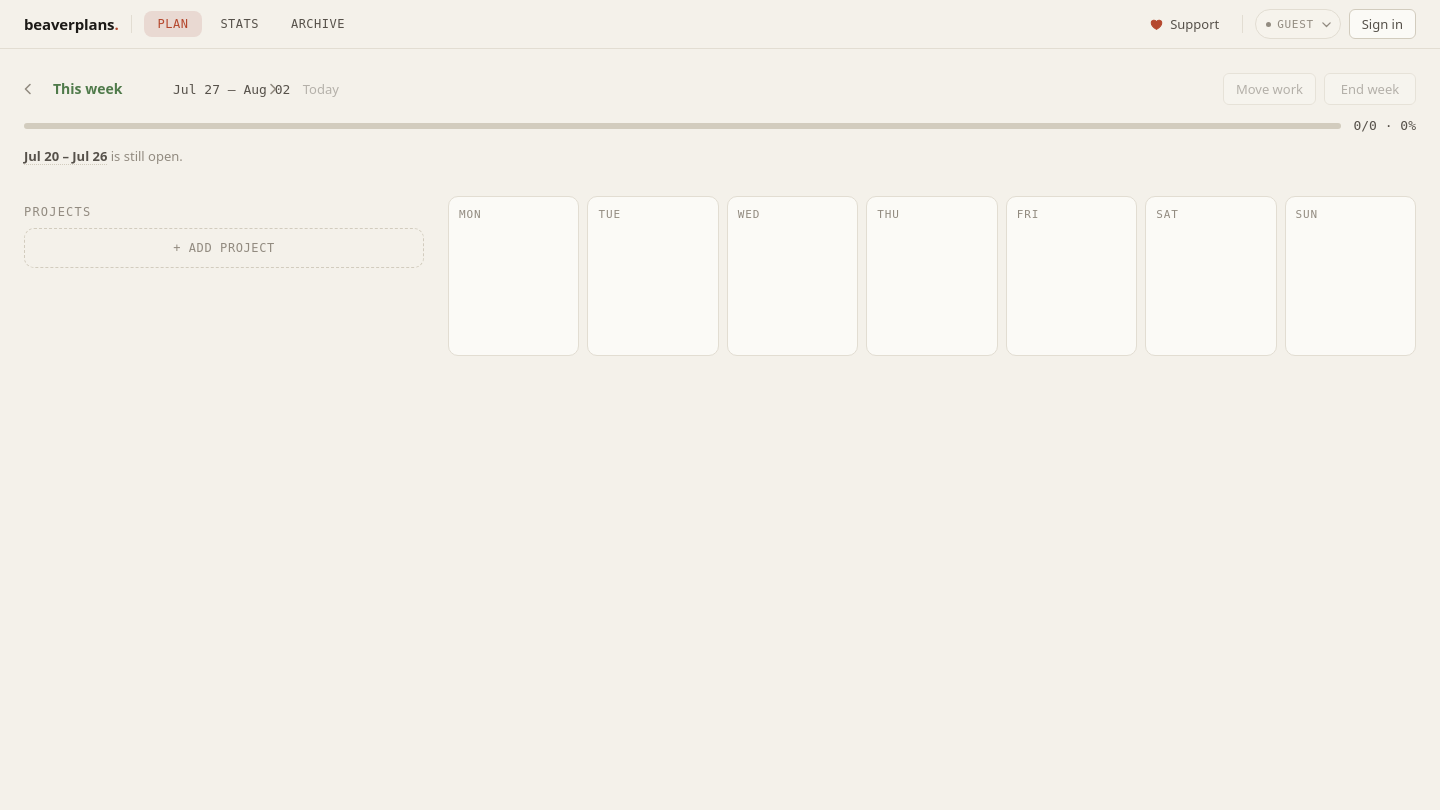
Scenario: App under the weeks model › moving a week relabels the work and takes the view with it
This screenshot has width=1440, height=810.
Check: the button with aria-label "Go to Jul 20" is shown, box 24,147 -> 107,167
Click the button named "Previous week" at {"x": 28, "y": 89}, box 15,76 -> 41,102
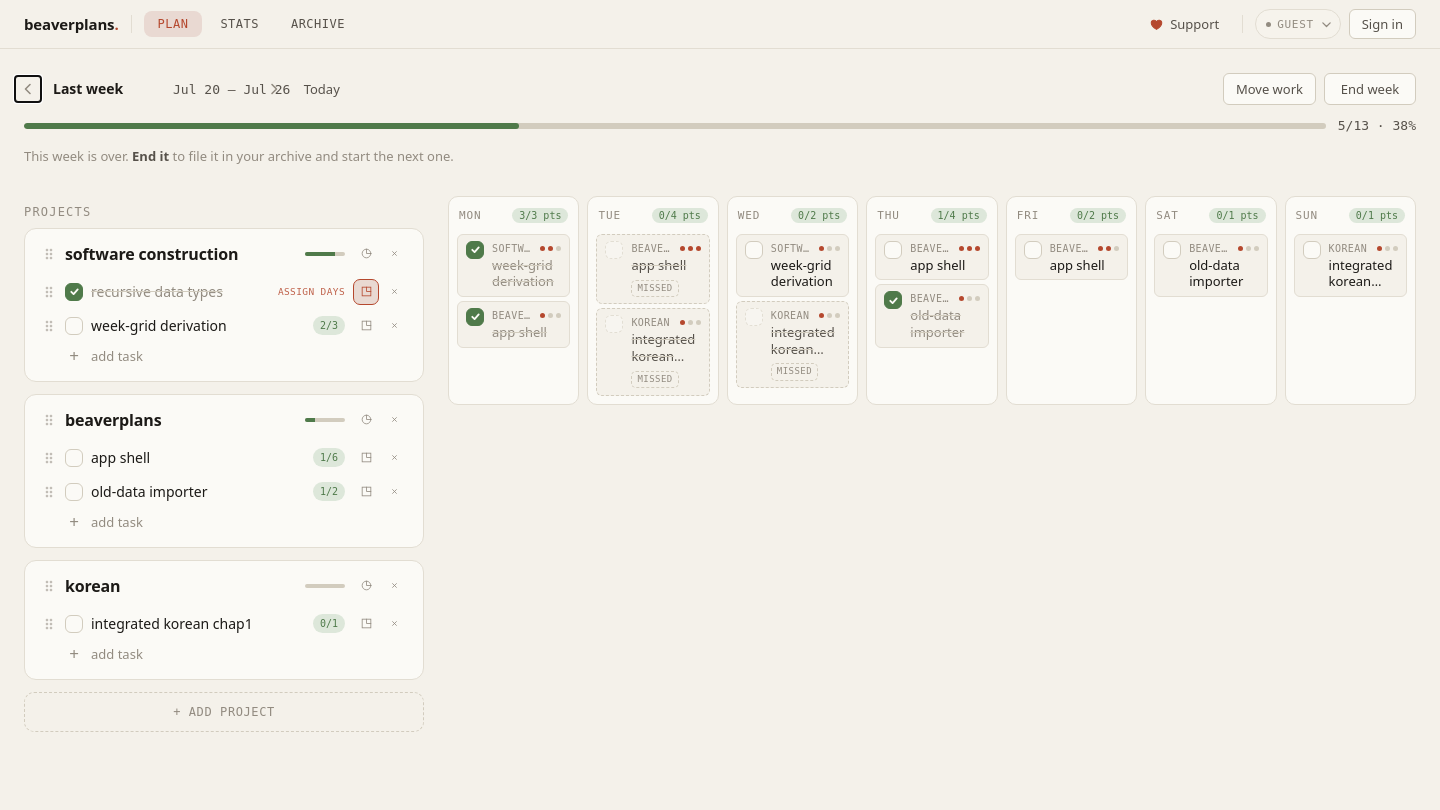
Check: the text "Jul 20 – Jul 26" is shown, box 173,81 -> 290,99
Click the button "Move work" at {"x": 1269, "y": 89}, box 1223,73 -> 1316,105
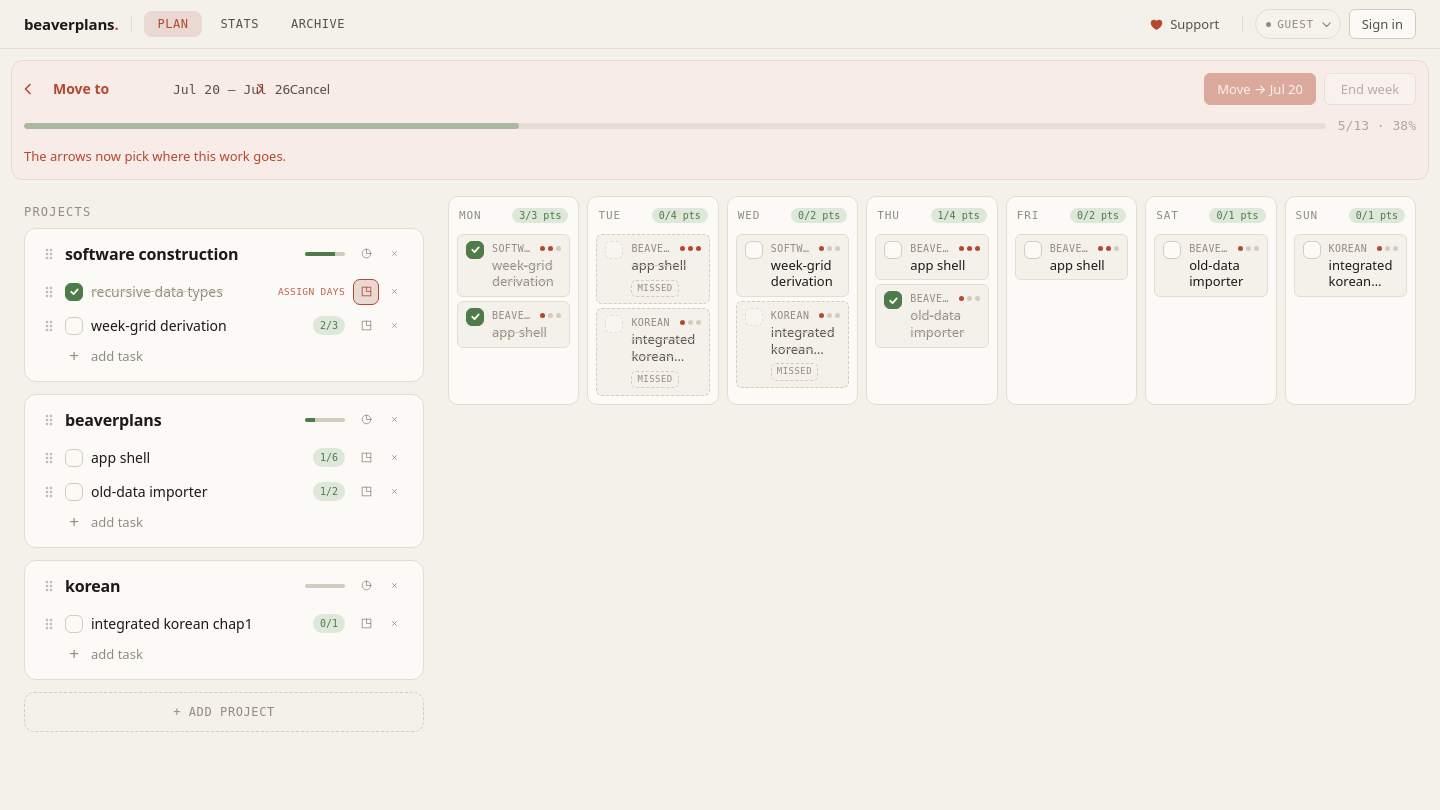
Click the button named "Later destination" at {"x": 260, "y": 89}, box 247,76 -> 273,102
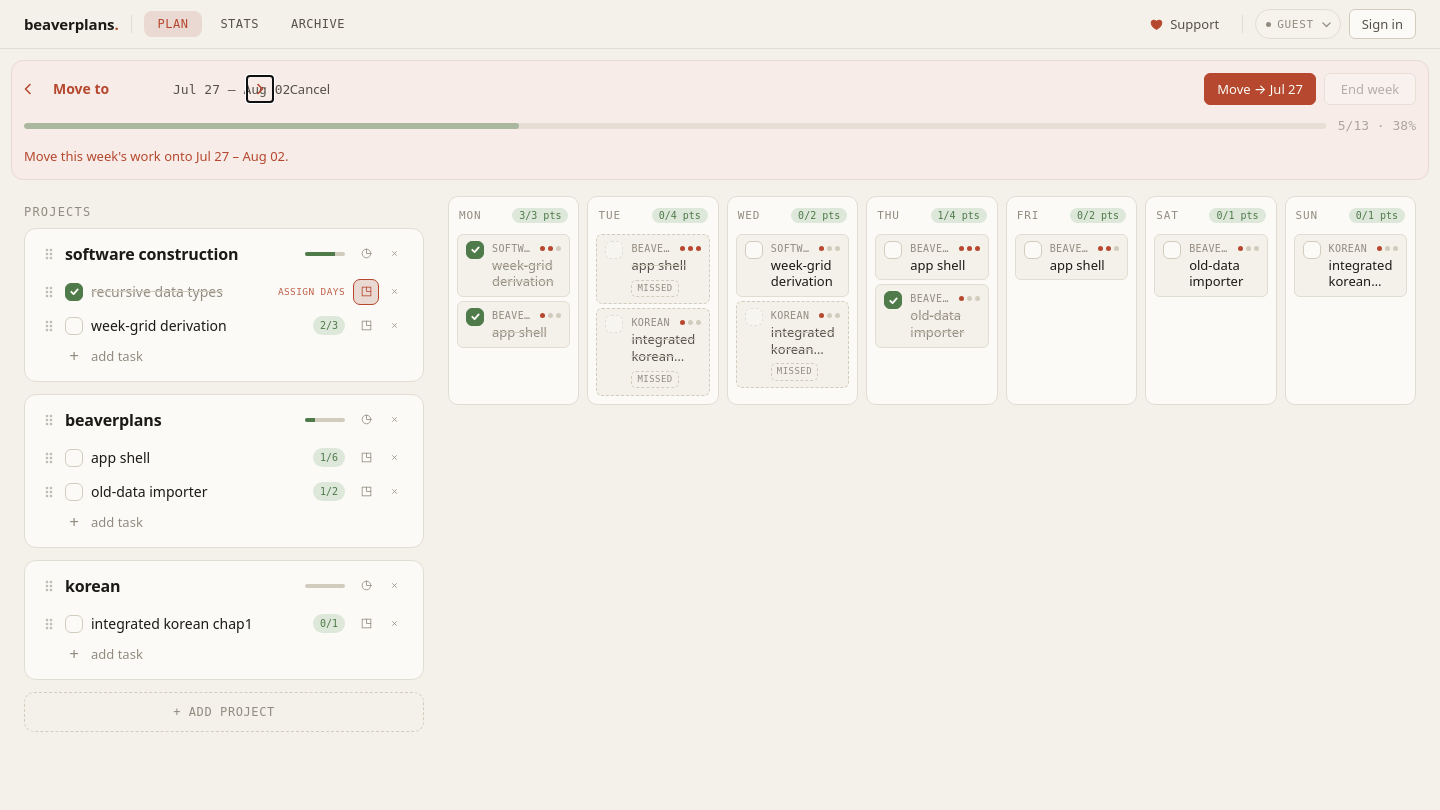
Click the button with aria-label "work onto Jul 27" at {"x": 1260, "y": 89}, box 1204,73 -> 1316,105
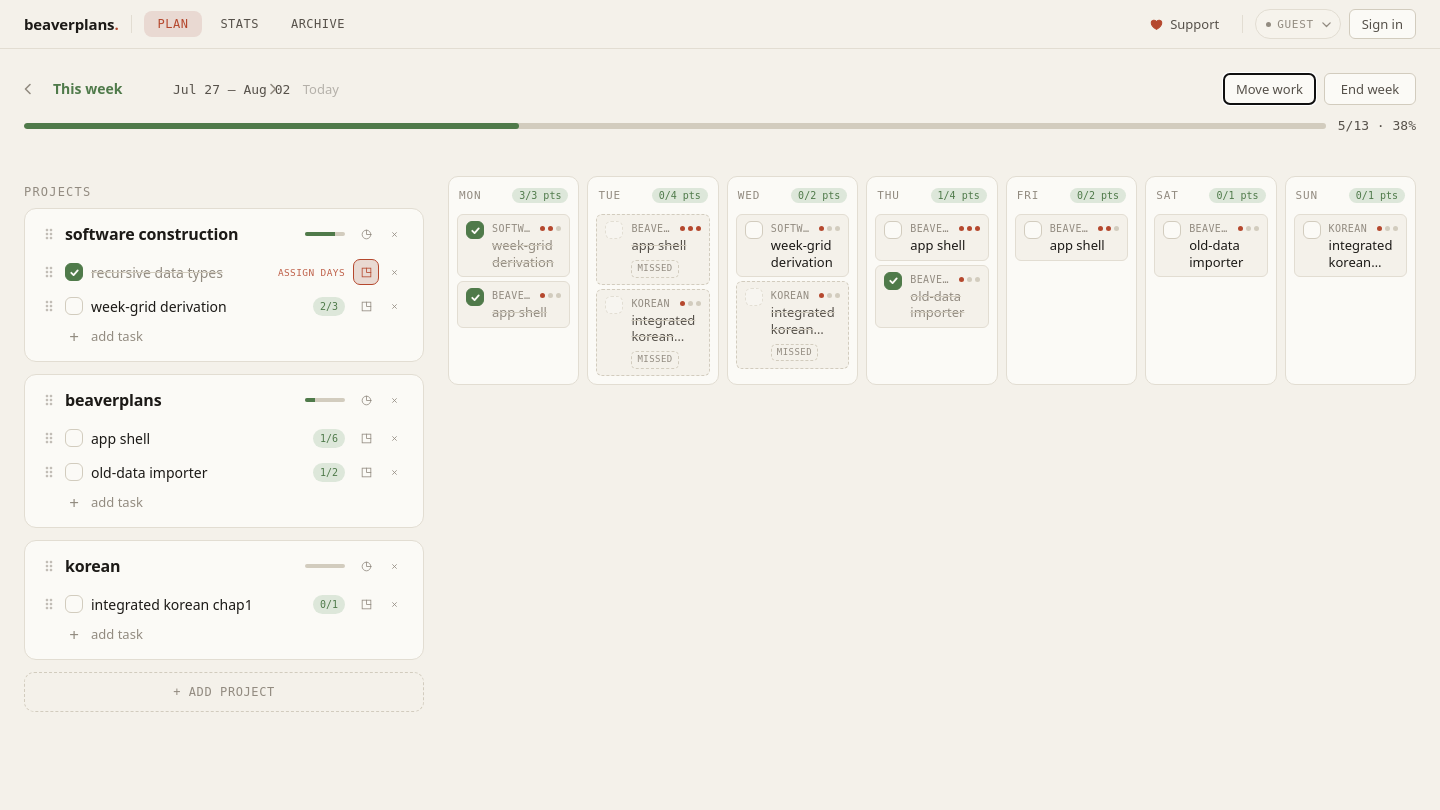
Check: the text "Jul 27 – Aug 02" is shown, box 173,81 -> 290,99
Click the button named "Previous week" at {"x": 28, "y": 89}, box 15,76 -> 41,102
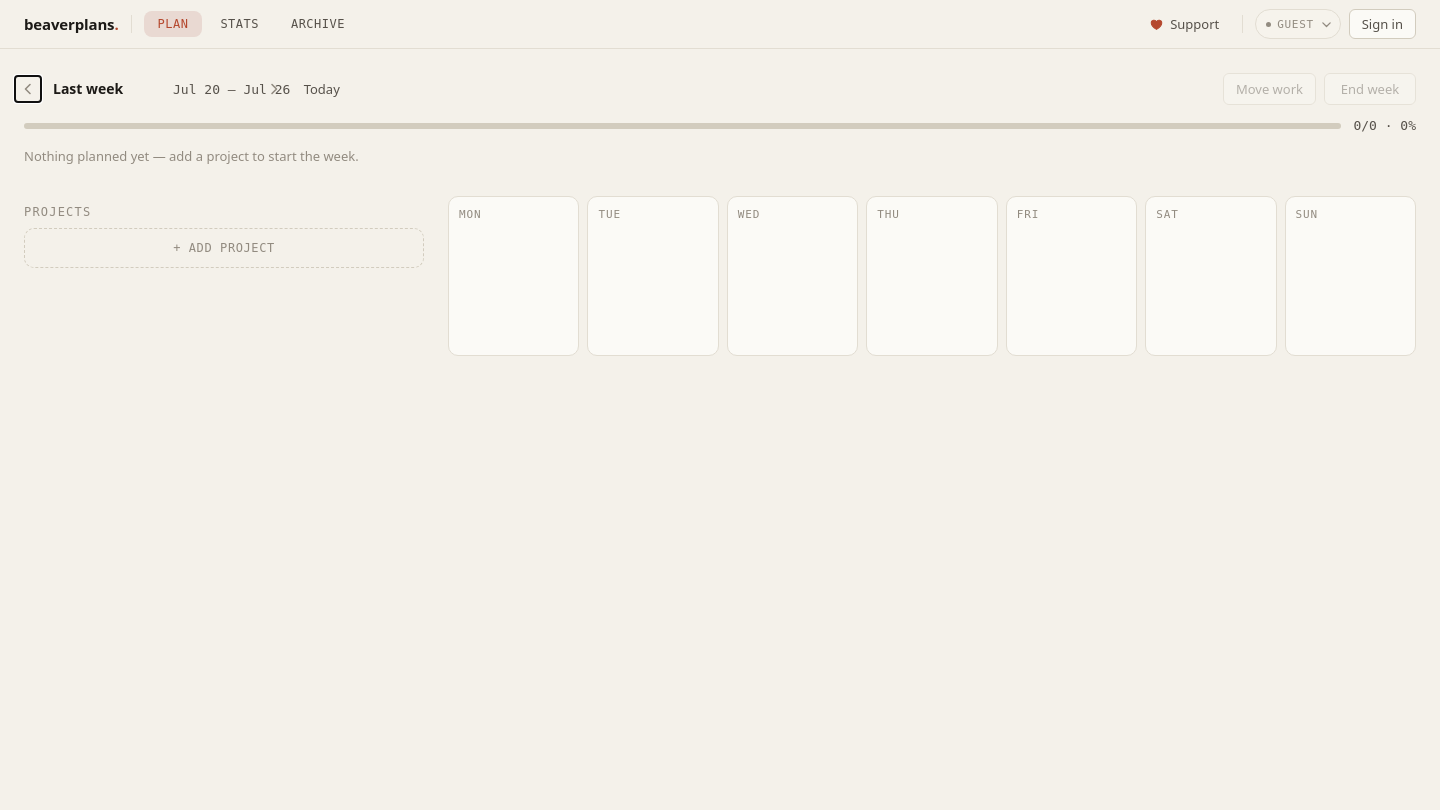
Check: the text "Nothing planned yet — add a project to start the week." is shown, box 24,147 -> 359,165
